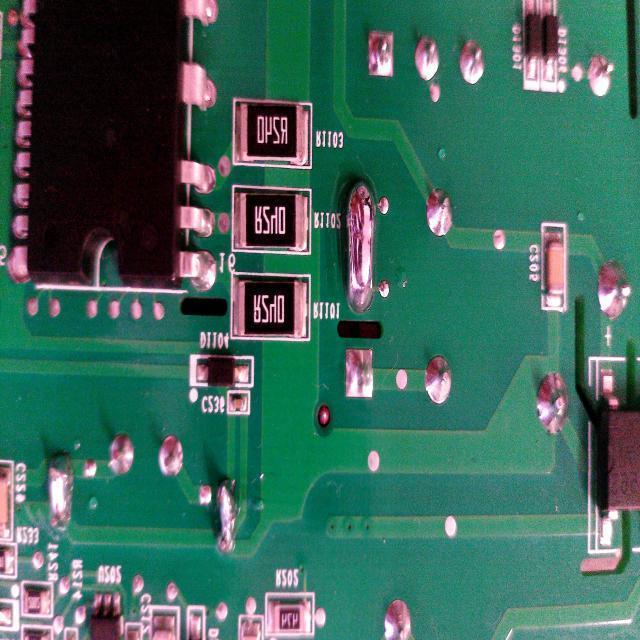Soldering shorted: (347, 171, 378, 317), (44, 452, 74, 530), (214, 473, 239, 555)
